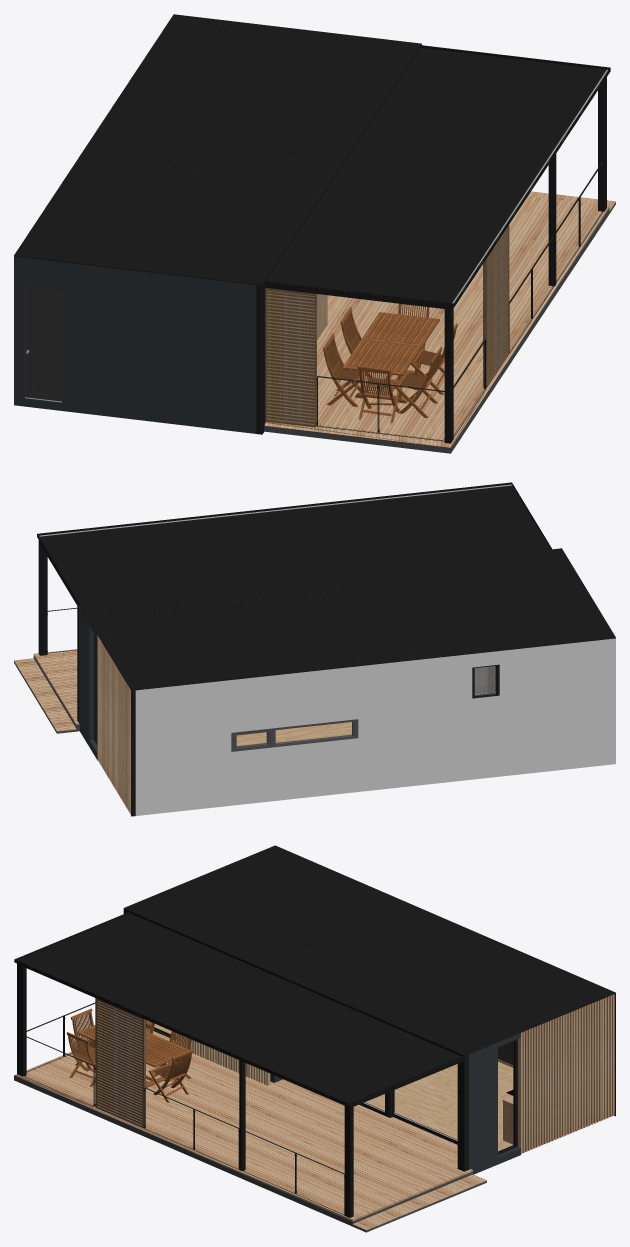
File: house3.glb
3 views of the same model, one above another, from view 1: azimuth 30°, elevation 25°; view 2: azimuth 150°, elevation 25°; view 3: azimuth 270°, elevation 25° (orthographic). The views are drawn at different scales.
Size of what is drawn, in the model's own units: 12.27 by 2.67 by 11.83.
108 materials, 51 textured.
